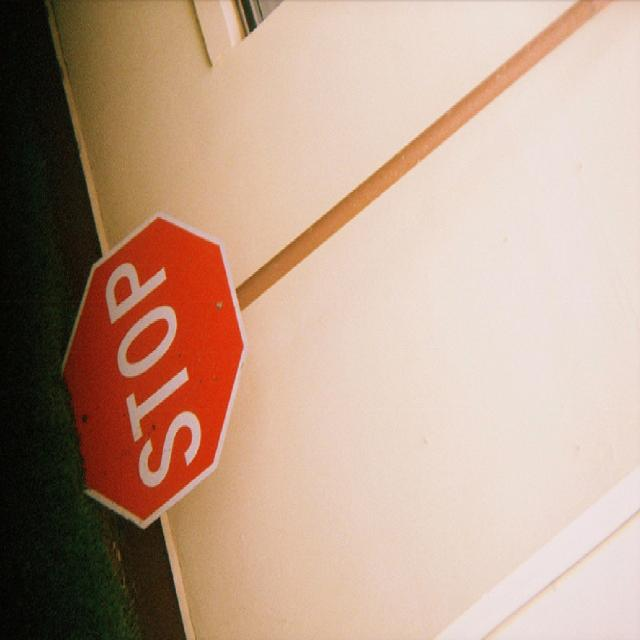STOP: (64, 217, 247, 517)
